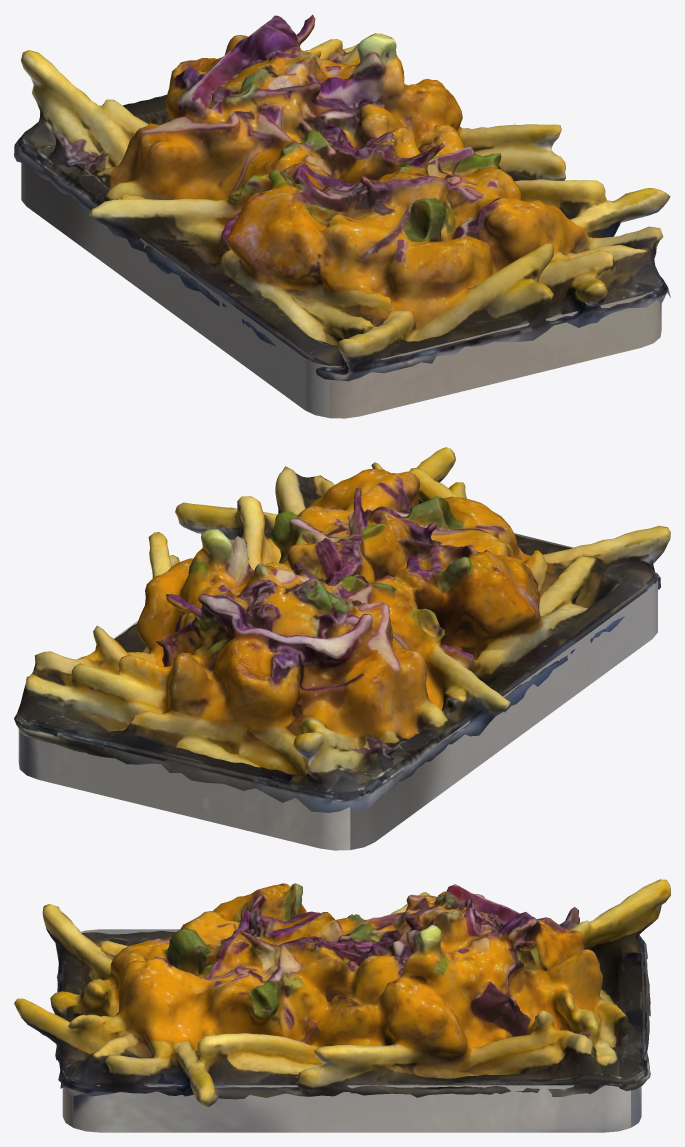
3 renders of one model, top to bottom at view 1: azimuth 30°, elevation 25°; view 2: azimuth 150°, elevation 25°; view 3: azimuth 270°, elevation 25°, orthographic. The views are drawn at different scales.
Visible parts, largest first — view 1: 3DModel; view 2: 3DModel; view 3: 3DModel.
Boxes of the visible parts, <box> form: 3DModel: <box>14,14,670,418</box>; 3DModel: <box>14,447,670,850</box>; 3DModel: <box>14,879,670,1132</box>.
Size of the model in its own units: 43.59 by 16.24 by 59.85.
Materials: 1 (1 with a texture image).
